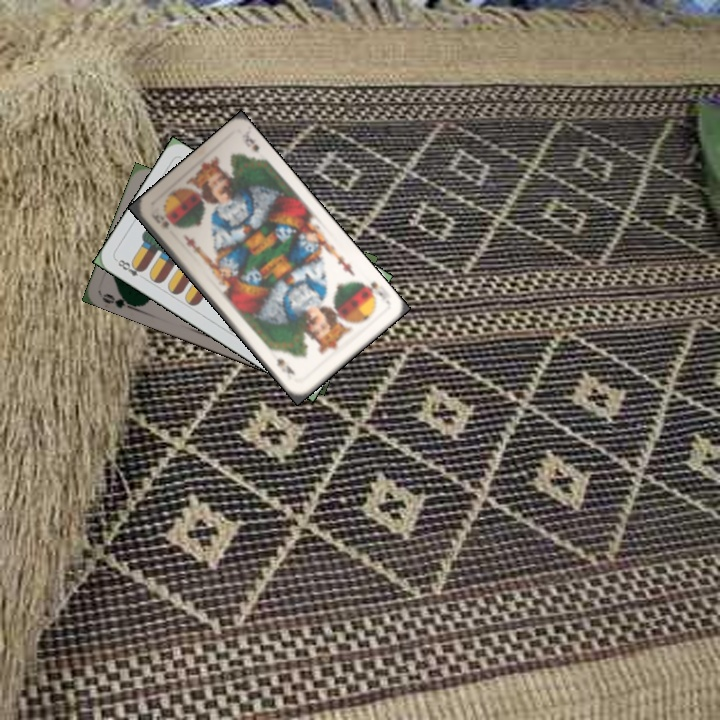E8: (112, 255, 148, 283)
GO: (98, 289, 139, 313)
SK: (357, 277, 386, 303), (146, 209, 172, 231)
